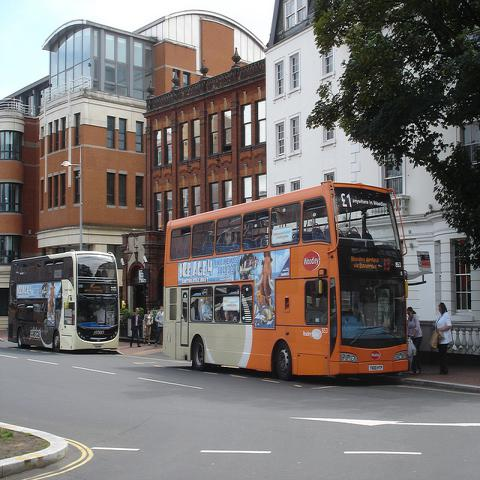bus: (162, 182, 410, 381), (4, 253, 118, 350)
